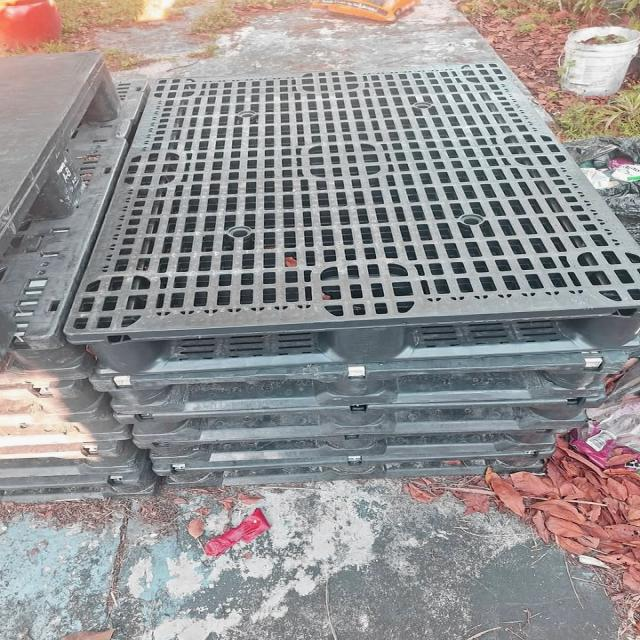non-igps: (57, 50, 640, 388), (0, 73, 156, 388), (82, 341, 634, 419), (108, 386, 612, 449), (146, 440, 562, 491), (125, 424, 578, 468), (0, 446, 167, 507), (0, 388, 137, 450), (0, 432, 149, 481), (0, 374, 117, 430)
